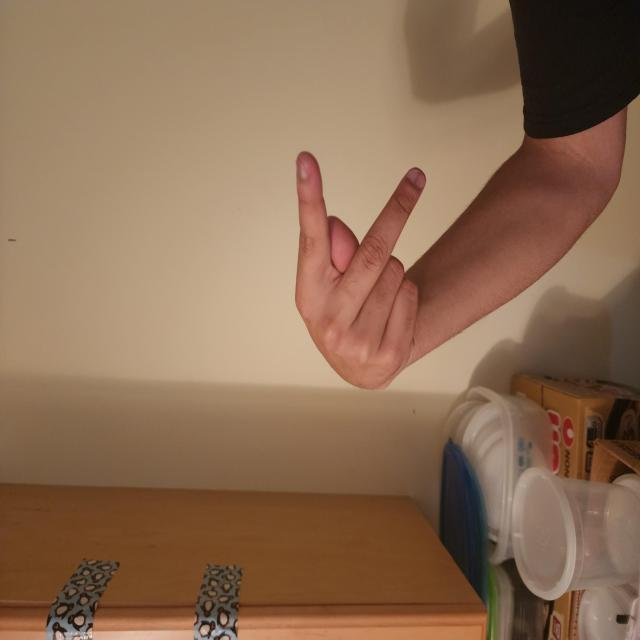P: (183, 384, 373, 576)
